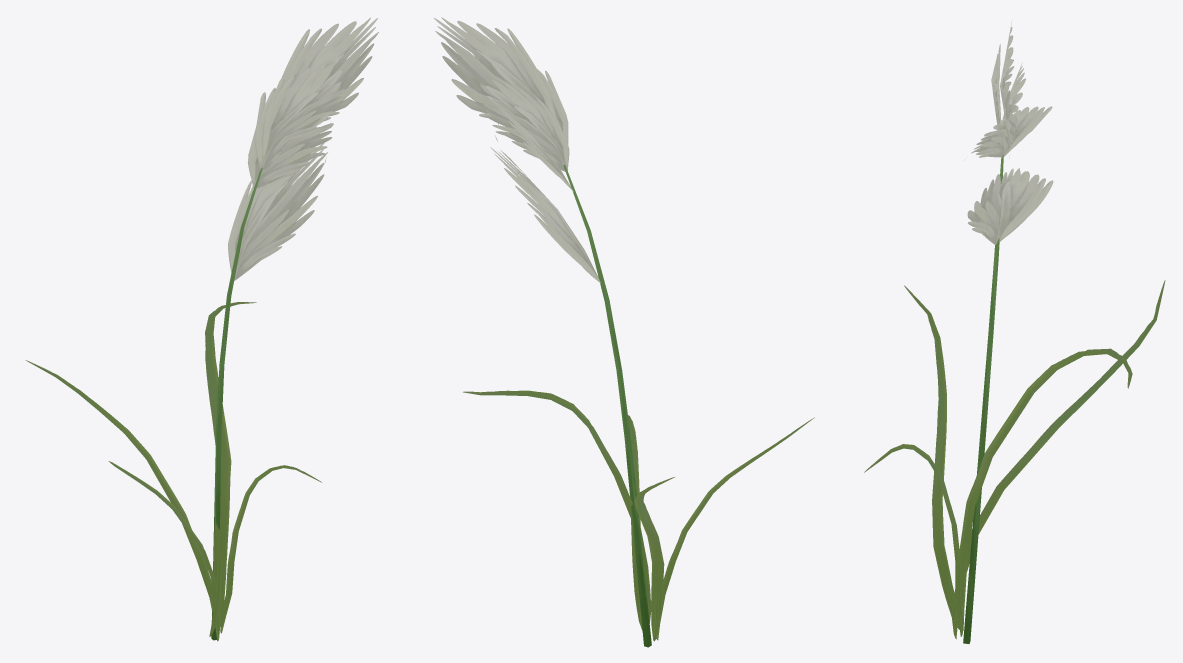
File: SM_EastLands_AmurSilvergrass_01.fbx
3 views of the same model, side by side, from view 1: azimuth 30°, elevation 25°; view 2: azimuth 150°, elevation 25°; view 3: azimuth 270°, elevation 25° (orthographic). The views are drawn at different scales.
Parts seen in each view (by area): view 1: SM_EastLands_AmurSilvergrass_01_LOD0; view 2: SM_EastLands_AmurSilvergrass_01_LOD0; view 3: SM_EastLands_AmurSilvergrass_01_LOD0.
Part boxes in pixels (bbox=[...]): SM_EastLands_AmurSilvergrass_01_LOD0: bbox=[25, 17, 378, 641]; SM_EastLands_AmurSilvergrass_01_LOD0: bbox=[434, 17, 814, 647]; SM_EastLands_AmurSilvergrass_01_LOD0: bbox=[864, 19, 1165, 643].
Bounding box in the file's own units: 135 × 222 × 90.36.
